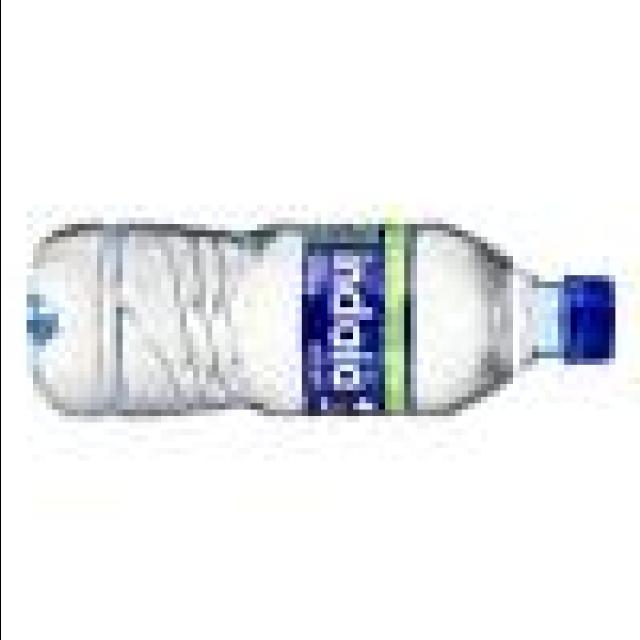cap: (24, 204, 129, 432), (533, 271, 630, 380)
